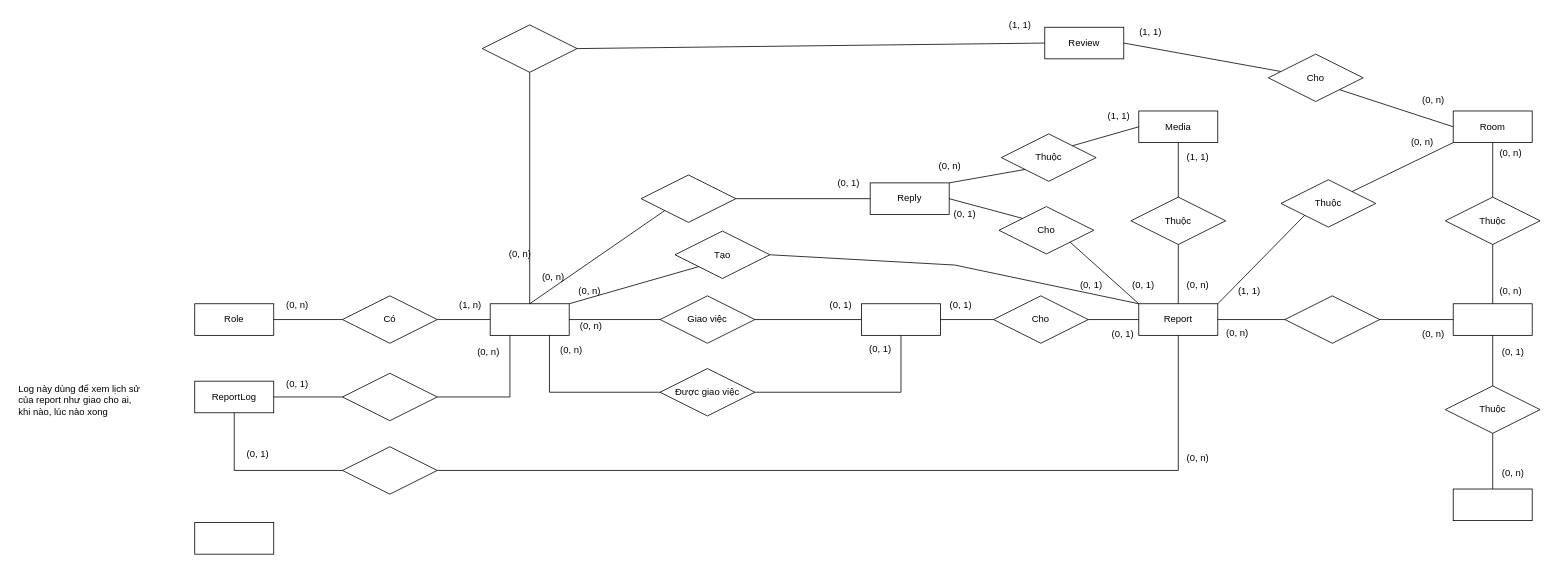
The diagram is 1554 pixels wide and 568 high, and some of its shapes have lost their labels. The shapes that lost their labels are listed below. From the top down, each one's centre as x and y in pixels, then its label:
At point (529, 48): "Thuộc về".
At point (688, 198): "Hoàn thành".
At point (529, 319): "User".
At point (900, 319): "Assignment".
At point (1332, 319): "Báo cáo về".
At point (1492, 319): "Equipment".
At point (389, 396): "Ghi log".
At point (389, 470): "Có log".
At point (1492, 504): "Type".
At point (234, 538): "ActivityLog".
